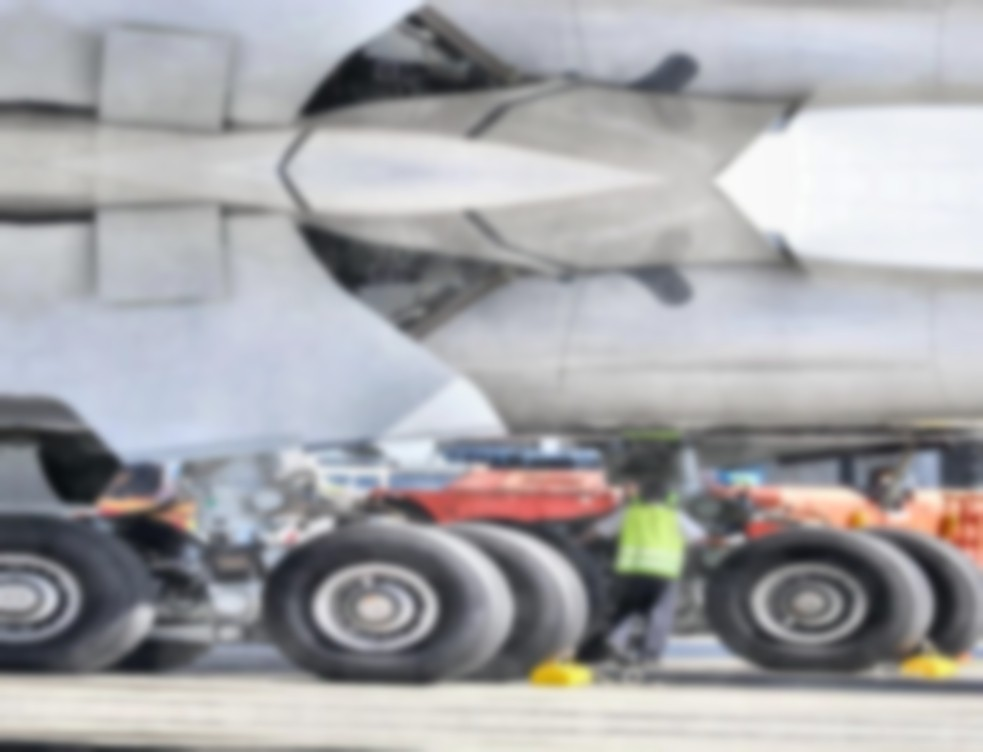chock: (527, 658, 596, 689), (897, 654, 960, 680)
wheel: (259, 516, 527, 685), (700, 521, 936, 674), (403, 519, 596, 683), (65, 511, 222, 675), (13, 511, 165, 673), (841, 525, 983, 667), (350, 494, 440, 528)
